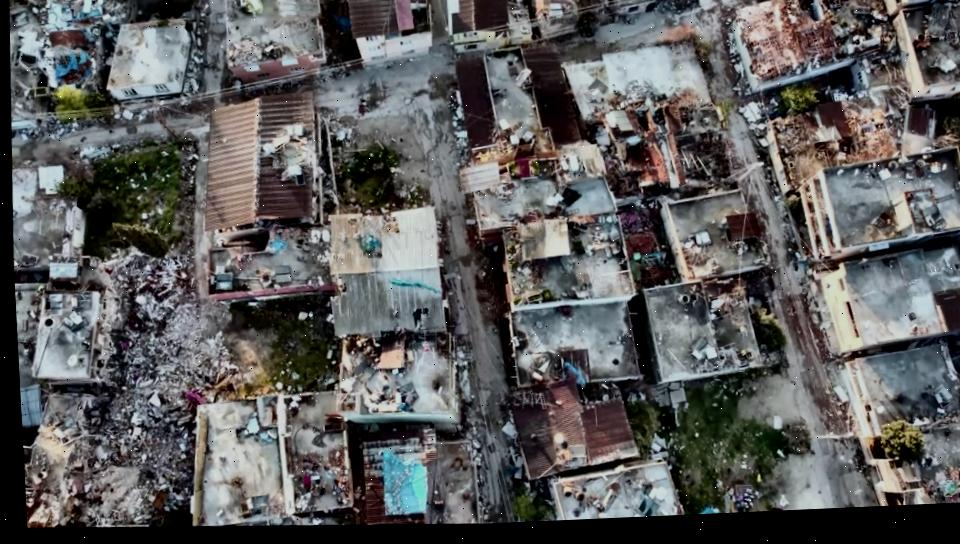kapali: (164, 272, 220, 525)
